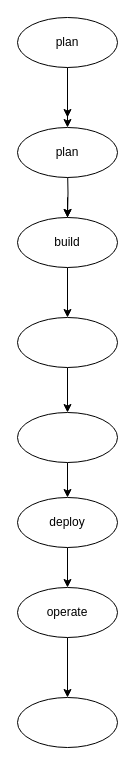
This 135x765 diagram has some shape labels left out. Each missing label, with the centre of its shape:
"monitors" goes at (67,722).
"release" goes at (67,437).
"test" goes at (67,342).
